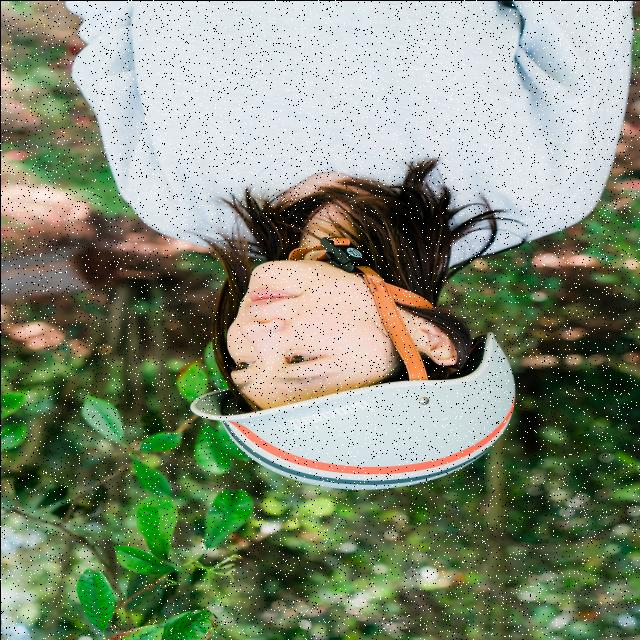Helmet: (189, 332, 513, 489)
